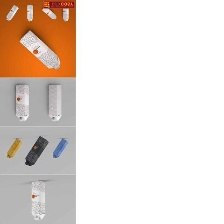carton: (15, 29, 63, 73), (44, 81, 67, 124), (12, 81, 33, 123), (22, 135, 50, 166), (29, 179, 47, 221), (49, 135, 71, 158), (4, 137, 23, 160), (4, 1, 19, 24), (24, 4, 36, 27), (42, 6, 58, 22), (61, 6, 72, 24)
